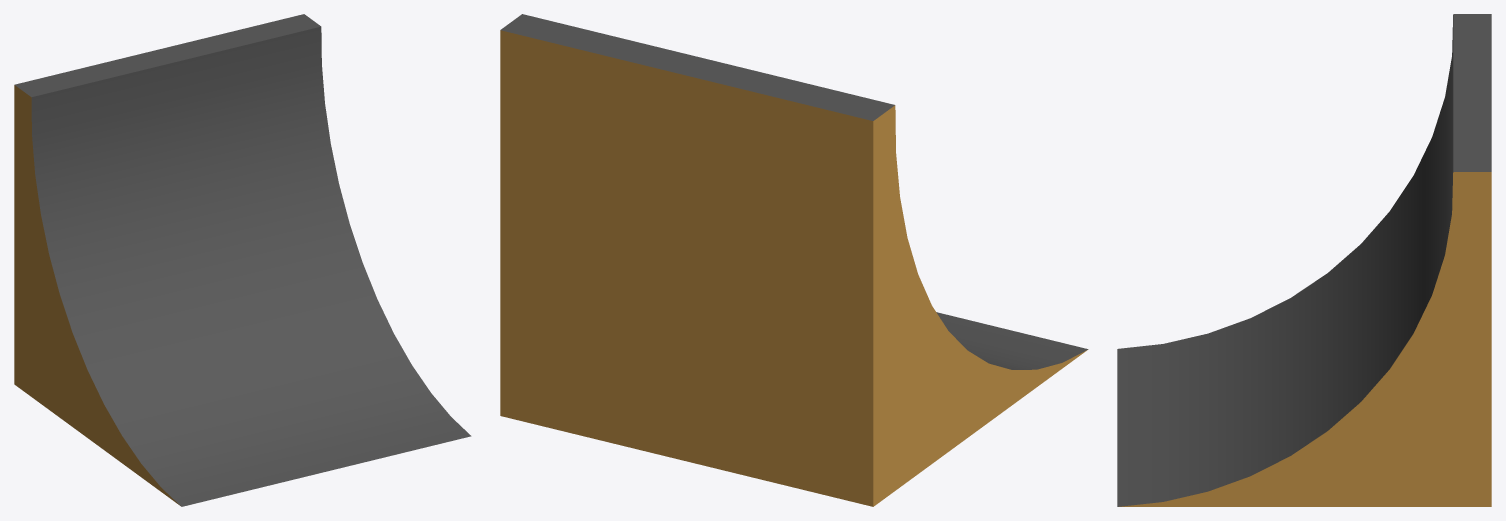
The model's file is Skate_Quarter_Pipe_w_Back_01.FBX.
The picture shows the model from 3 angles, left to right: view 1: azimuth 30°, elevation 25°; view 2: azimuth 150°, elevation 25°; view 3: azimuth 270°, elevation 25°; orthographic projection. The views are drawn at different scales.
Visible parts, largest first — view 1: Skate_Quarter_Pipe_w_Back_01; view 2: Skate_Quarter_Pipe_w_Back_01; view 3: Skate_Quarter_Pipe_w_Back_01.
Part boxes in pixels (<box>): Skate_Quarter_Pipe_w_Back_01: <box>14,14,471,506</box>; Skate_Quarter_Pipe_w_Back_01: <box>500,14,1088,506</box>; Skate_Quarter_Pipe_w_Back_01: <box>1117,14,1491,506</box>.
Bounding box in the file's own units: 3 × 2.96 × 3.
